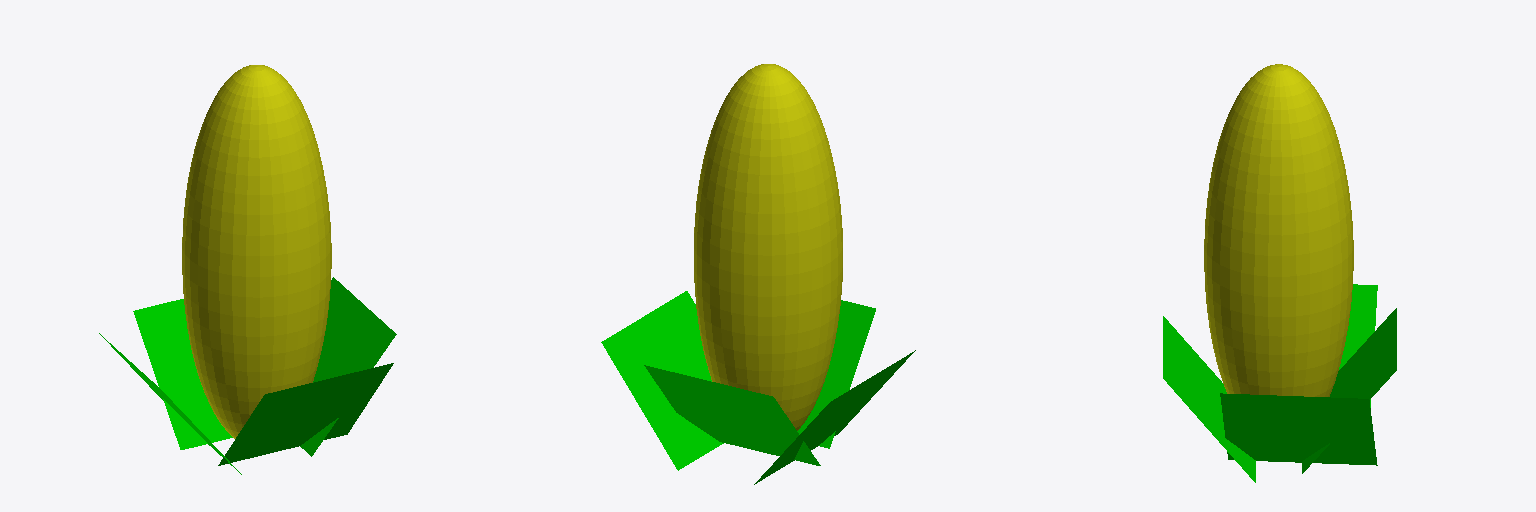
Rendered from Corn.obj.
3 views of the same model, side by side, from view 1: azimuth 30°, elevation 25°; view 2: azimuth 150°, elevation 25°; view 3: azimuth 270°, elevation 25° (orthographic).
Visible parts, largest first — view 1: Sphere_Sphere.001, Plane, Plane.002, Plane.003, Plane.001; view 2: Sphere_Sphere.001, Plane.003, Plane.002, Plane, Plane.001; view 3: Sphere_Sphere.001, Plane.003, Plane, Plane.002, Plane.001.
Part boxes in pixels (x1,y1,x2,y2): Sphere_Sphere.001: (182, 65, 331, 438); Plane: (218, 363, 393, 465); Plane.002: (133, 299, 232, 449); Plane.003: (300, 277, 396, 456); Plane.001: (99, 333, 241, 474); Sphere_Sphere.001: (694, 64, 842, 430); Plane.003: (601, 291, 723, 470); Plane.002: (644, 365, 820, 465); Plane: (797, 300, 875, 448); Plane.001: (754, 350, 915, 484); Sphere_Sphere.001: (1204, 64, 1353, 396); Plane.003: (1220, 393, 1377, 465); Plane: (1163, 316, 1255, 482); Plane.002: (1302, 308, 1396, 473); Plane.001: (1339, 284, 1377, 407).
Size of the model in its own units: 3.76 by 5.58 by 3.13.